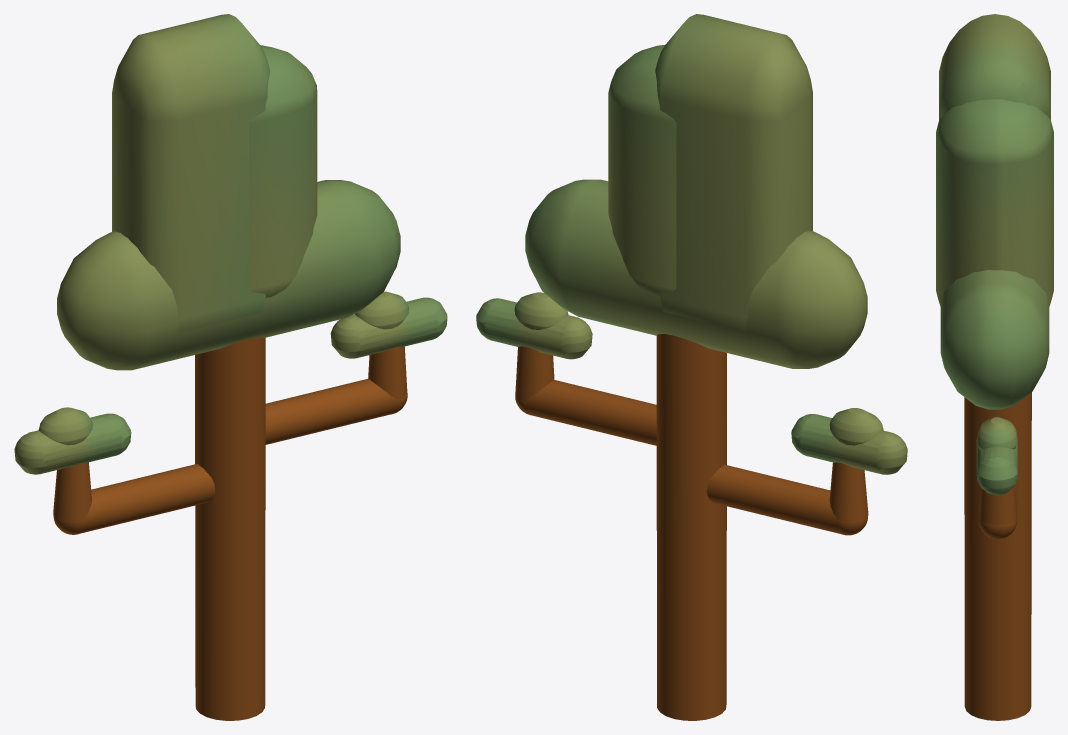
The model's file is arbol.obj.
3 views of the same model, side by side, from view 1: azimuth 30°, elevation 25°; view 2: azimuth 150°, elevation 25°; view 3: azimuth 270°, elevation 25° (orthographic). The views are drawn at different scales.
Parts seen in each view (by area): view 1: pCube3, pasted__pCylinder1 group8, arbusto1:pasted__polySurface2group2 group12, arbusto:pasted__polySurface2group2, pasted__pasted__pCylinder1 pasted__group6 group7, pasted__pCylinder1 group6, pasted__pasted__pasted__pCylinder1 pasted__pasted__group6 pasted, pasted__pasted__pCylinder1 pasted__group6 group9; view 2: pCube3, pasted__pCylinder1 group8, arbusto1:pasted__polySurface2group2 group12, arbusto:pasted__polySurface2group2, pasted__pasted__pCylinder1 pasted__group6 group7, pasted__pCylinder1 group6, pasted__pasted__pasted__pCylinder1 pasted__pasted__group6 pasted, pasted__pasted__pCylinder1 pasted__group6 group9; view 3: pCube3, pasted__pCylinder1 group8, arbusto:pasted__polySurface2group2, pasted__pasted__pCylinder1 pasted__group6 group9, pSphere1.
Boxes of the visible parts, box(x1,y1,x2,y2) form: pCube3: box(57, 14, 400, 370); pasted__pCylinder1 group8: box(195, 337, 265, 720); arbusto1:pasted__polySurface2group2 group12: box(14, 407, 131, 474); arbusto:pasted__polySurface2group2: box(330, 291, 447, 358); pasted__pasted__pCylinder1 pasted__group6 group7: box(80, 464, 215, 533); pasted__pCylinder1 group6: box(265, 378, 397, 444); pasted__pasted__pasted__pCylinder1 pasted__pasted__group6 pasted: box(53, 462, 91, 522); pasted__pasted__pCylinder1 pasted__group6 group9: box(368, 346, 407, 401); pCube3: box(525, 14, 867, 368); pasted__pCylinder1 group8: box(656, 334, 726, 720); arbusto1:pasted__polySurface2group2 group12: box(791, 408, 907, 474); arbusto:pasted__polySurface2group2: box(476, 292, 592, 359); pasted__pasted__pCylinder1 pasted__group6 group7: box(706, 465, 841, 534); pasted__pCylinder1 group6: box(525, 380, 656, 445); pasted__pasted__pasted__pCylinder1 pasted__pasted__group6 pasted: box(829, 462, 868, 522); pasted__pasted__pCylinder1 pasted__group6 group9: box(515, 346, 554, 402); pCube3: box(936, 14, 1053, 409); pasted__pCylinder1 group8: box(964, 392, 1031, 720); arbusto:pasted__polySurface2group2: box(976, 417, 1017, 495); pasted__pasted__pCylinder1 pasted__group6 group9: box(979, 484, 1017, 526); pSphere1: box(979, 520, 1016, 539).
Size of the model in its own units: 3.98 by 6.13 by 0.9999.
Materials: 4 (4 with a texture image).
